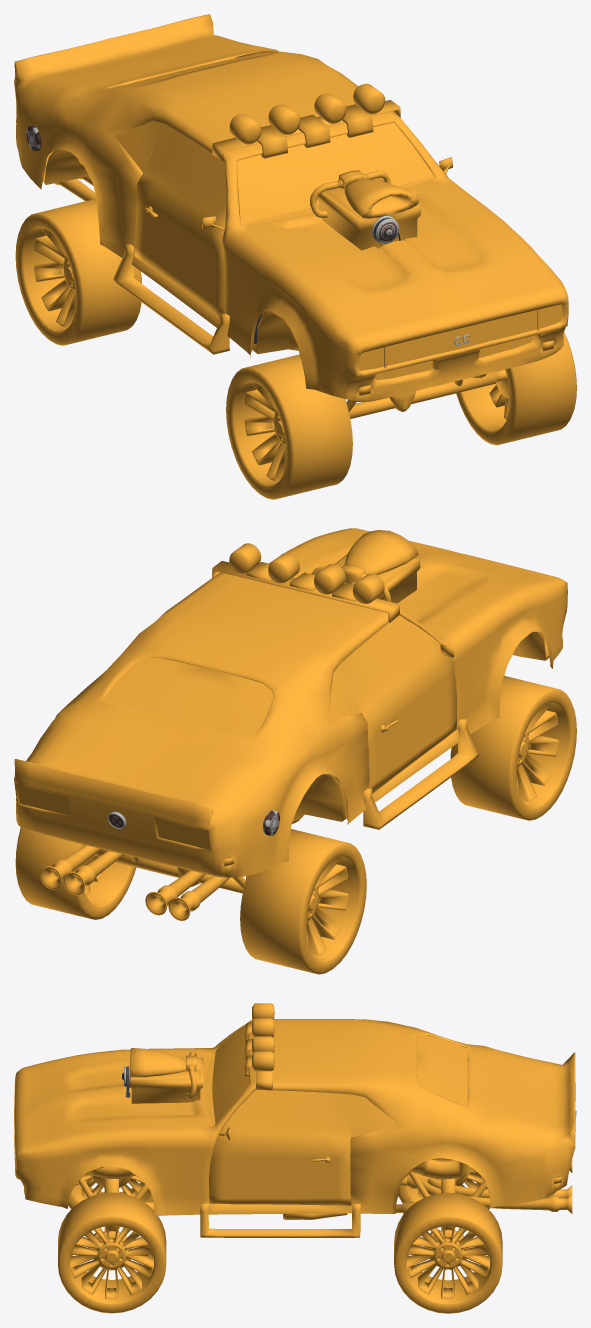
Rendered from MarauderCar.FBX.
The picture shows the model from 3 angles, top to bottom: view 1: azimuth 30°, elevation 25°; view 2: azimuth 150°, elevation 25°; view 3: azimuth 270°, elevation 25°; orthographic projection. The views are drawn at different scales.
Visible parts, largest first — view 1: Corpus; view 2: Corpus; view 3: Corpus.
Boxes of the visible parts, x1,y1,x2,y2 form: Corpus: (14,14,576,499); Corpus: (14,528,576,974); Corpus: (14,1003,576,1313).
Bounding box in the file's own units: 161 × 155 × 342.
